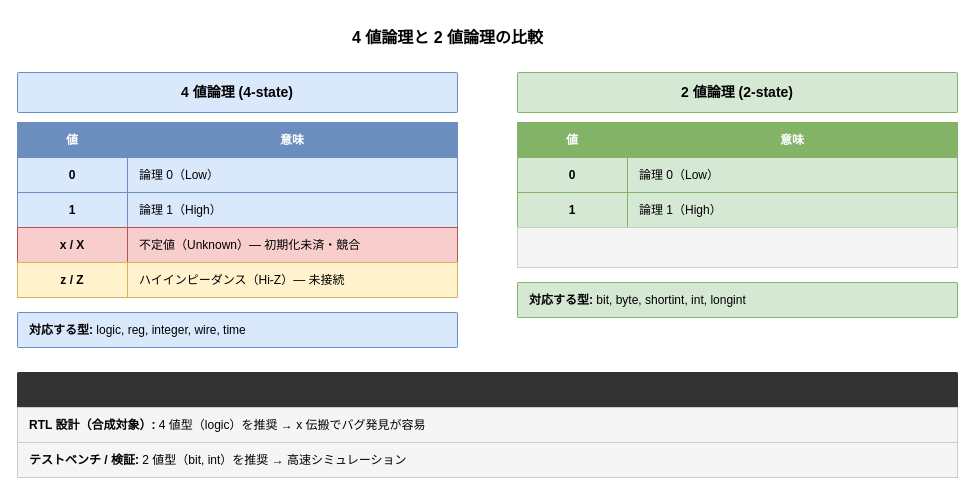
The diagram is 975 pixels wide and 495 high, and some of its shapes have lost their labels. Here are the shapes that lost their labels. From the top down, the centre of each, then its label:
point (737, 247): x, z は表現できない（初期値は常に 0）
point (487, 390): 使い分けの指針
